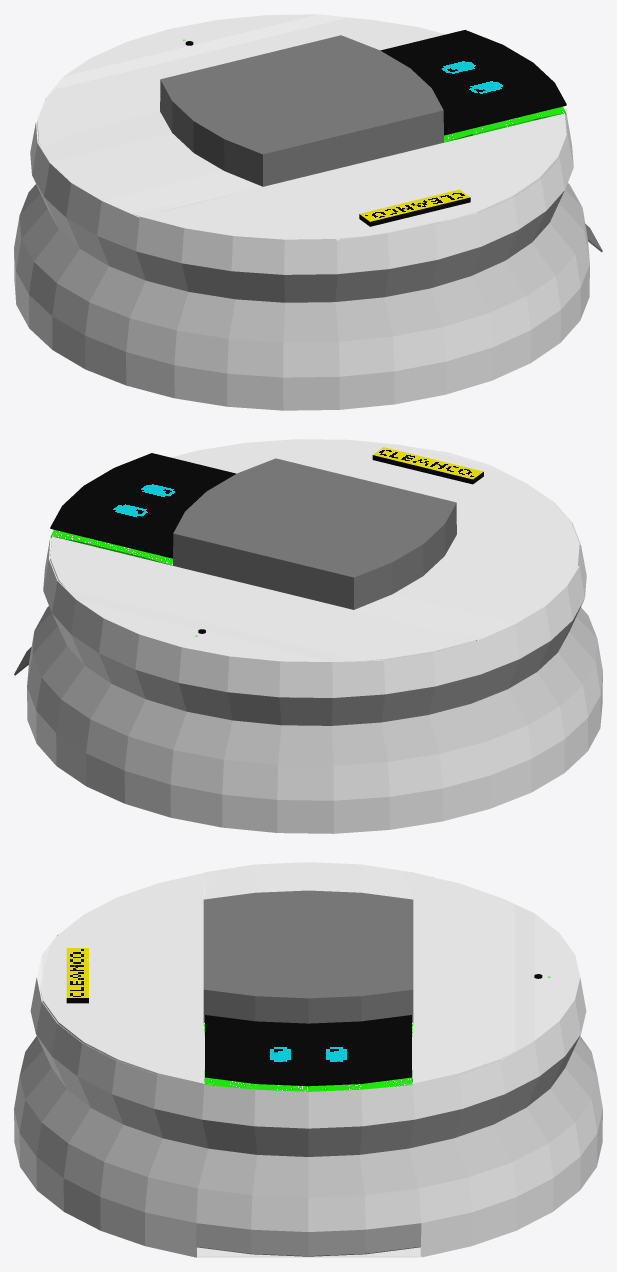
The model's file is Cleaner1.fbx.
The picture shows the model from 3 angles, top to bottom: view 1: azimuth 30°, elevation 25°; view 2: azimuth 150°, elevation 25°; view 3: azimuth 270°, elevation 25°; orthographic projection. The views are drawn at different scales.
Visible parts, largest first — view 1: Circle, Face; view 2: Circle, Face; view 3: Circle, Face.
Boxes of the visible parts, bbox=[...] form: Circle: bbox=[14, 14, 602, 410]; Face: bbox=[380, 30, 566, 135]; Circle: bbox=[14, 439, 602, 833]; Face: bbox=[50, 453, 235, 558]; Circle: bbox=[14, 862, 602, 1257]; Face: bbox=[205, 1015, 411, 1086].
Bounding box in the file's own units: 336 × 122 × 326.
2 materials, 2 textured.
